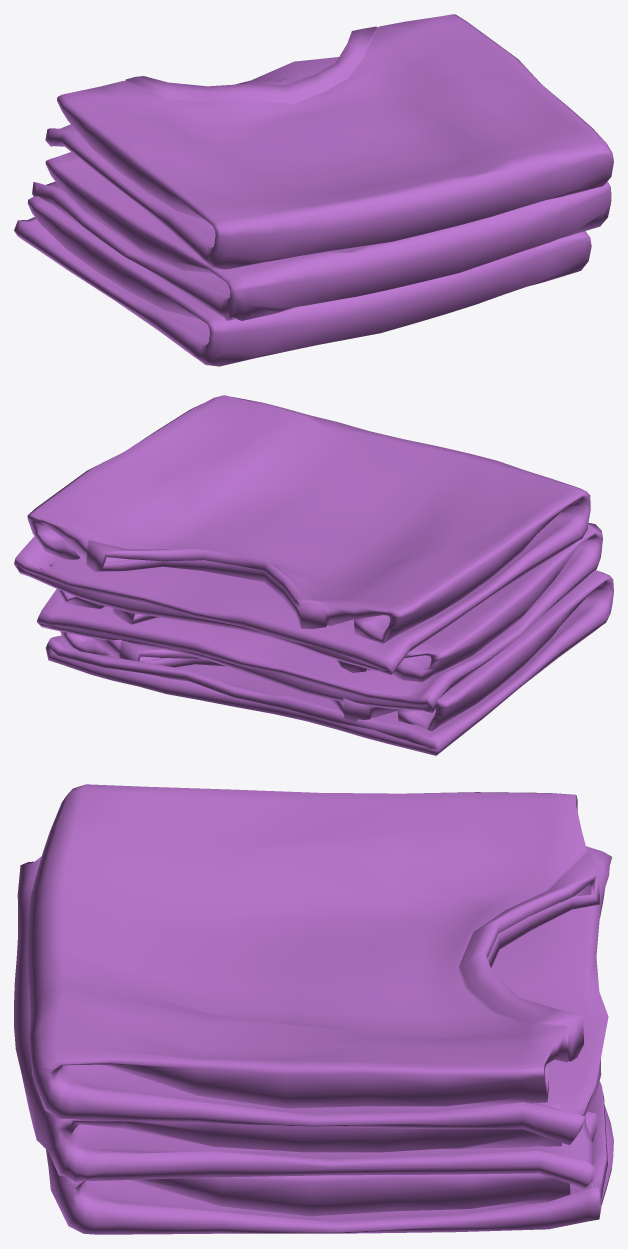
File: Folded_T_Shirt20.fbx
The picture shows the model from 3 angles, top to bottom: view 1: azimuth 30°, elevation 25°; view 2: azimuth 150°, elevation 25°; view 3: azimuth 270°, elevation 25°; orthographic projection. The views are drawn at different scales.
Visible parts, largest first — view 1: Folded_T_Shirt20; view 2: Folded_T_Shirt20; view 3: Folded_T_Shirt20.
Part boxes in pixels (x1=…): Folded_T_Shirt20: x1=14, y1=14, x2=613, y2=366; Folded_T_Shirt20: x1=14, y1=395, x2=613, y2=755; Folded_T_Shirt20: x1=14, y1=784, x2=613, y2=1234.
Bounding box in the file's own units: 39.71 × 11.89 × 33.24.
